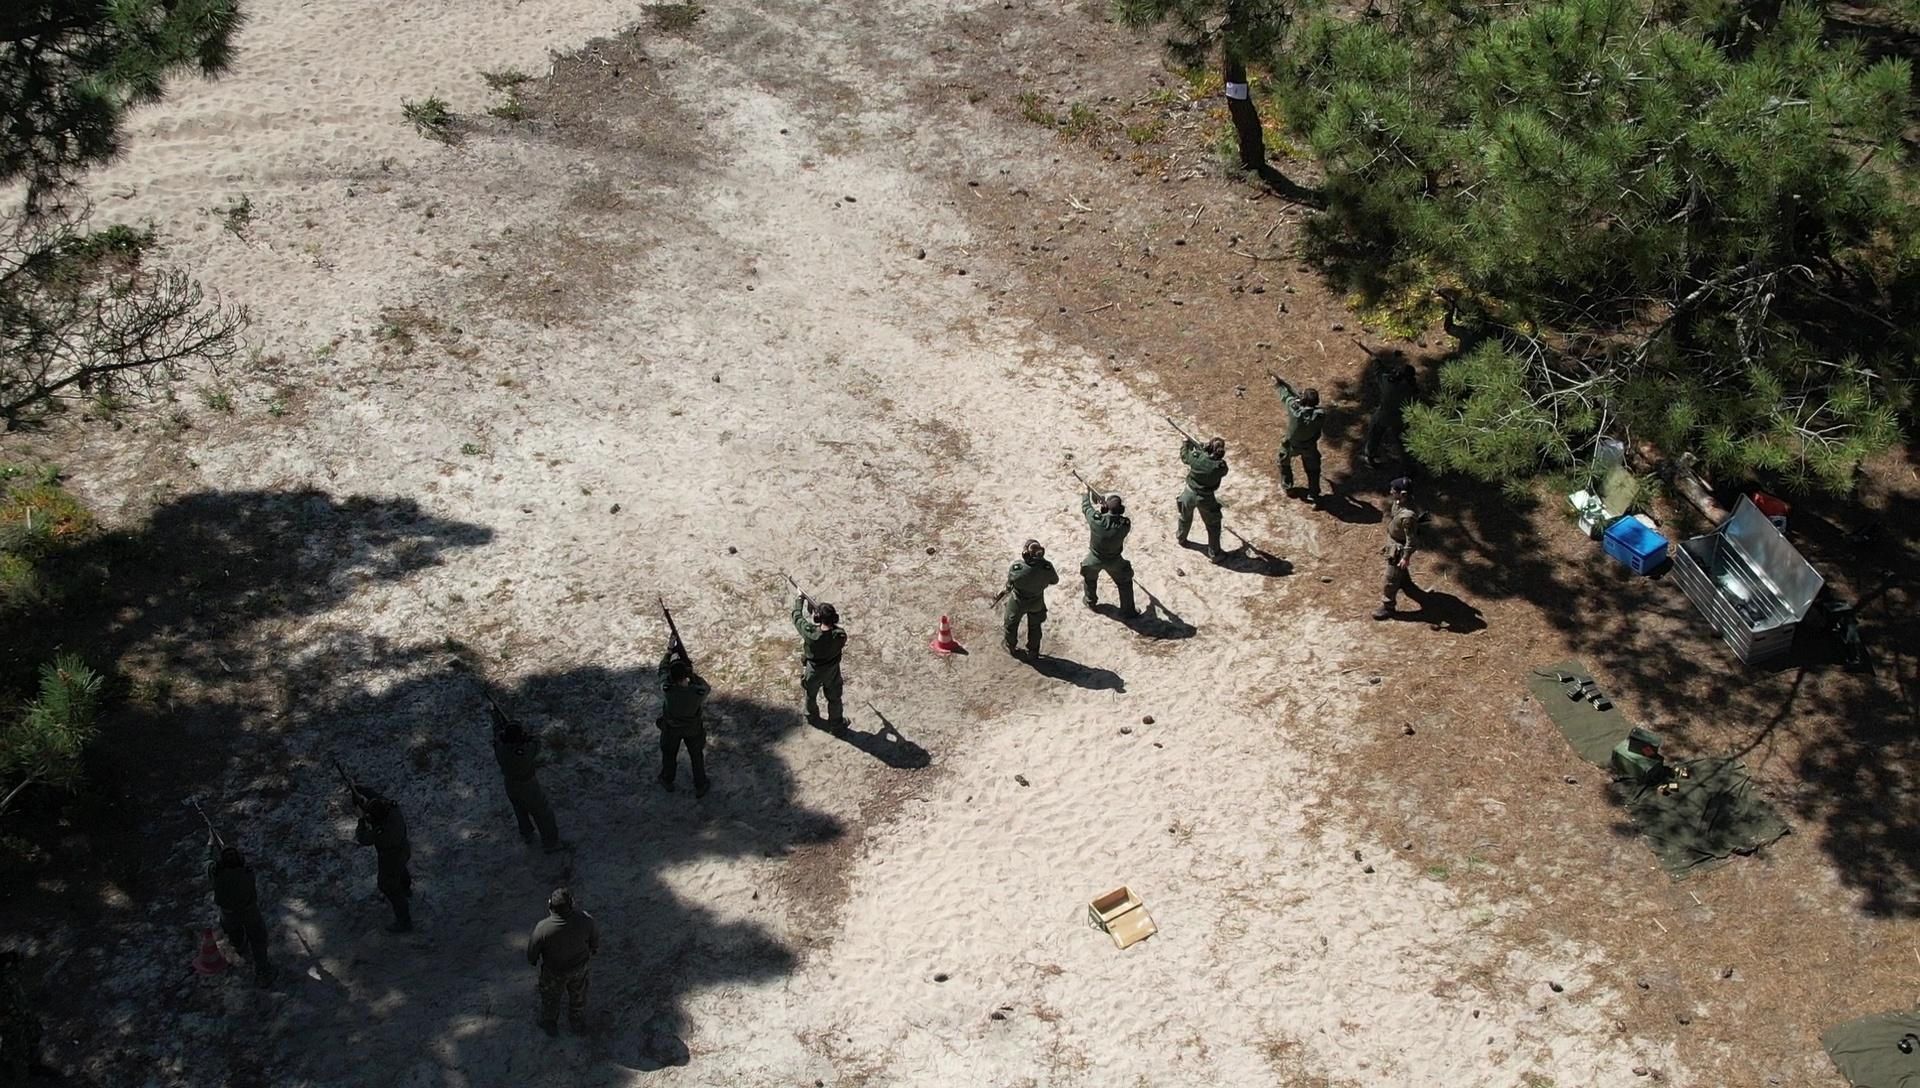Soldier: (469, 666, 595, 866), (327, 760, 448, 959), (1062, 476, 1167, 648), (189, 830, 295, 992), (520, 886, 618, 1056), (634, 640, 729, 812), (1153, 425, 1247, 582), (985, 528, 1076, 690), (781, 580, 868, 746), (1342, 346, 1423, 481), (1265, 367, 1338, 506), (1364, 476, 1433, 617)
